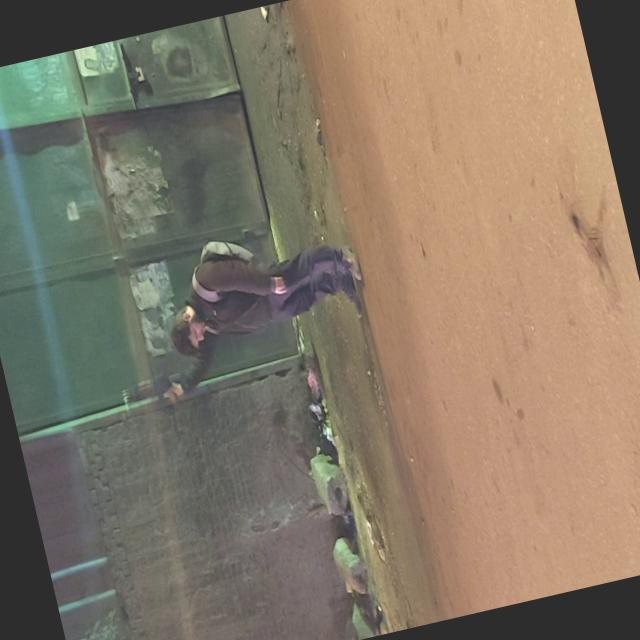long weapon: (100, 354, 196, 434)
